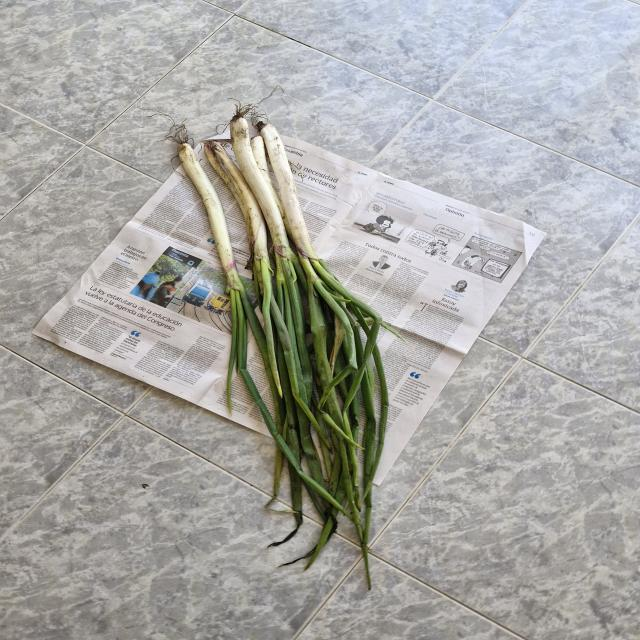green_onion: (176, 107, 397, 543)
